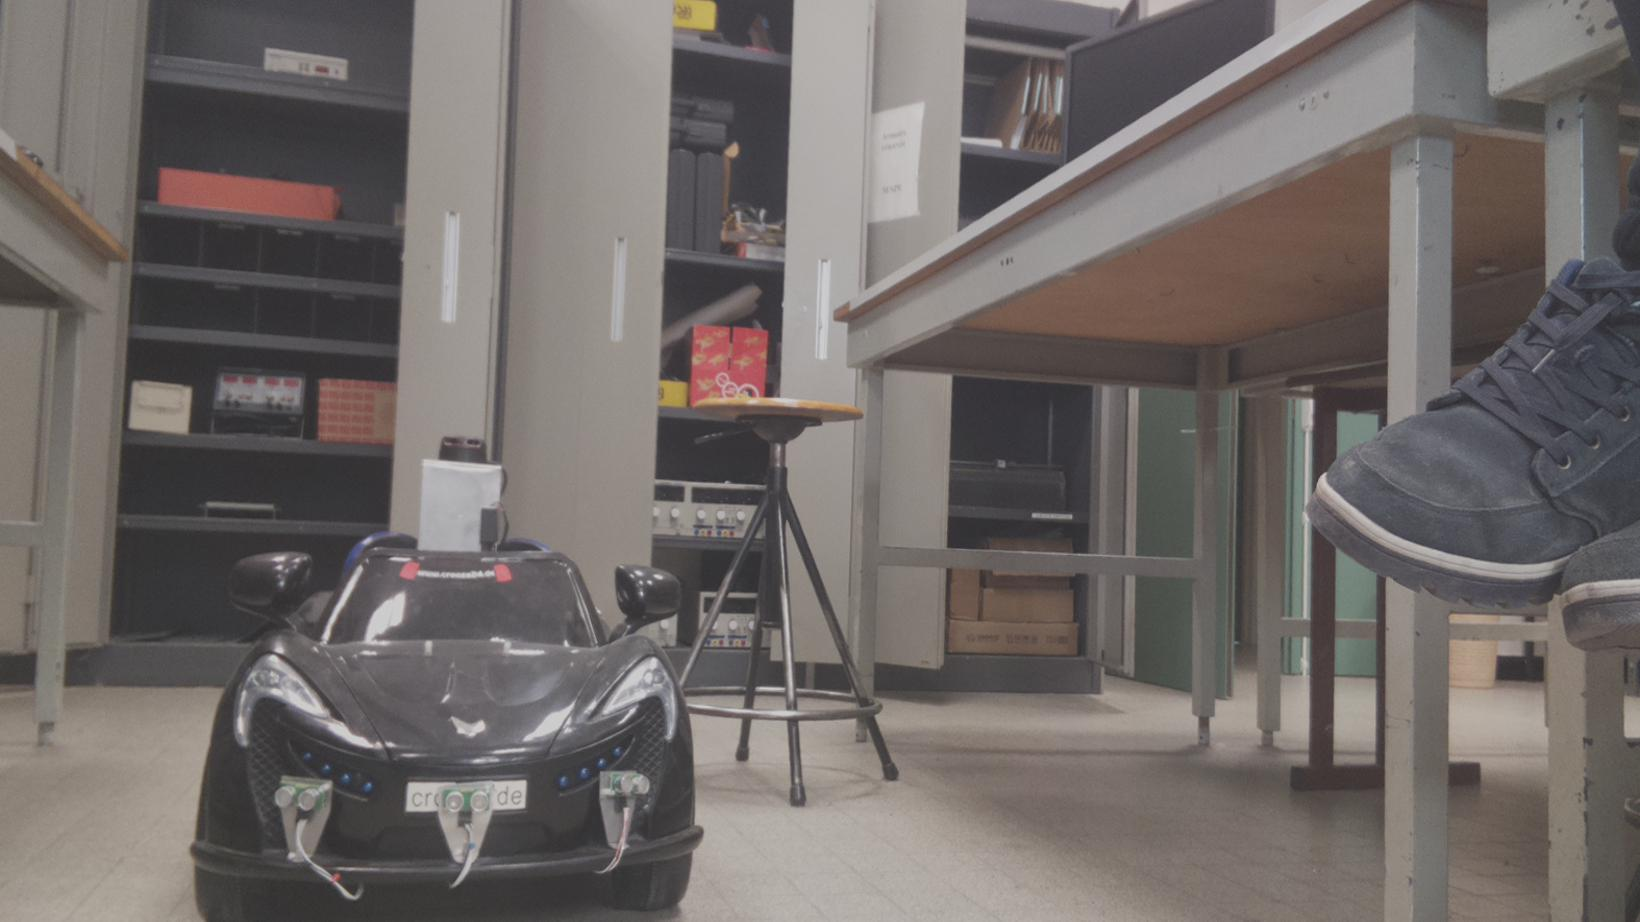big: (185, 530, 711, 922)
